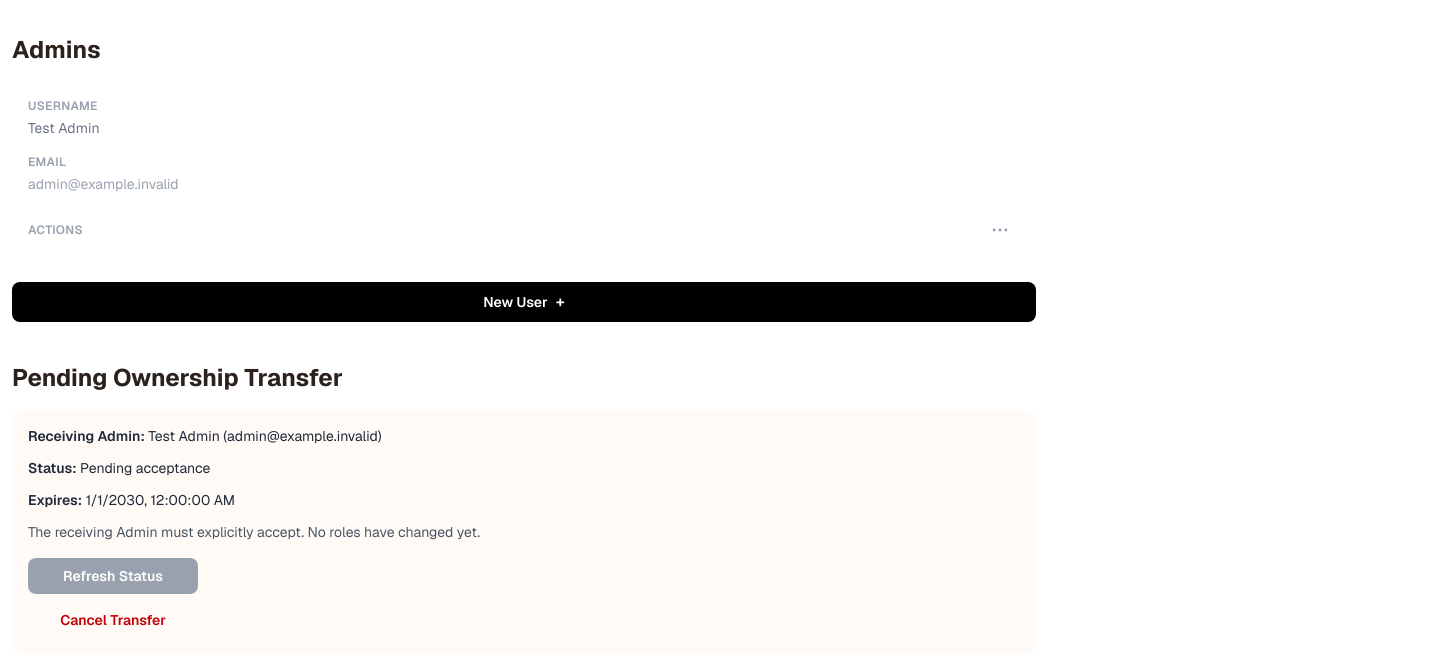
Admin page pending ownership-transfer controls › keeps the pending section visible when cancellation fails
(page scrolled)
Click the button "Cancel Transfer". click: (113, 620)
box: [28,602,198,638]
(page scrolled)
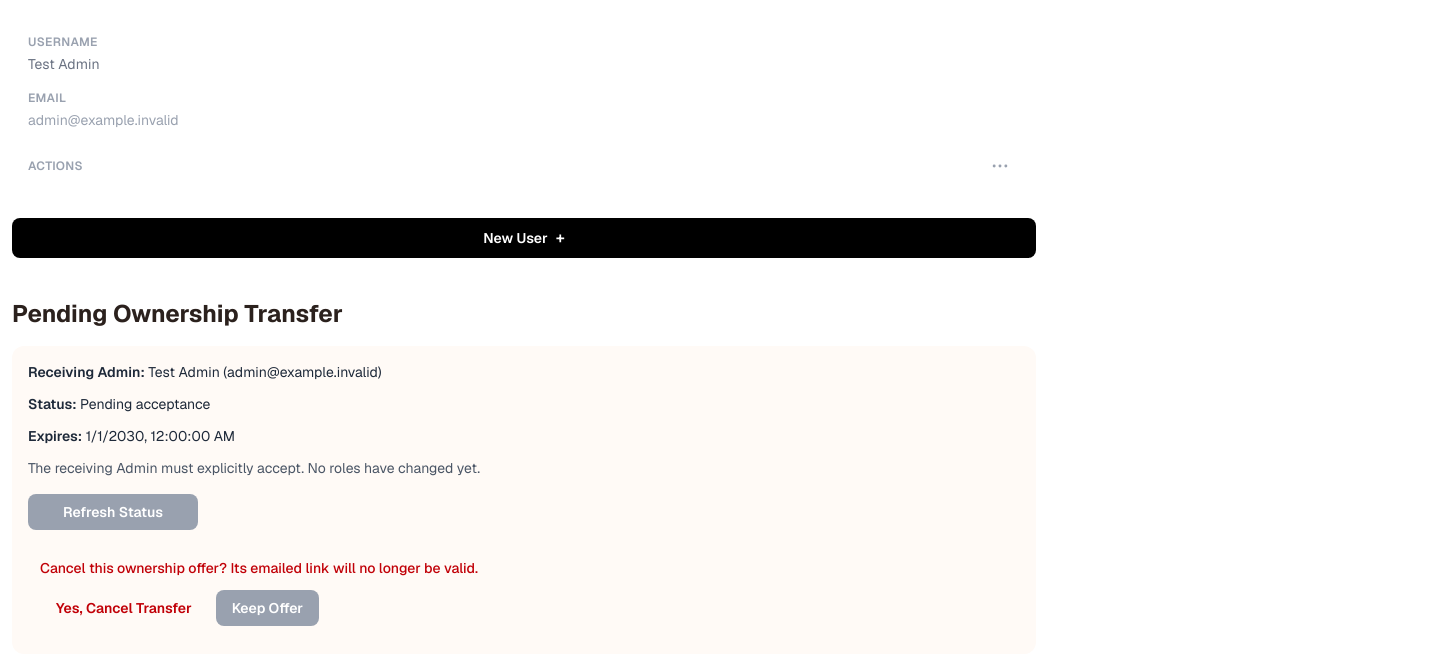
Click the button "Yes, Cancel Transfer". click: (124, 608)
box: [40,590,208,626]
(page scrolled)
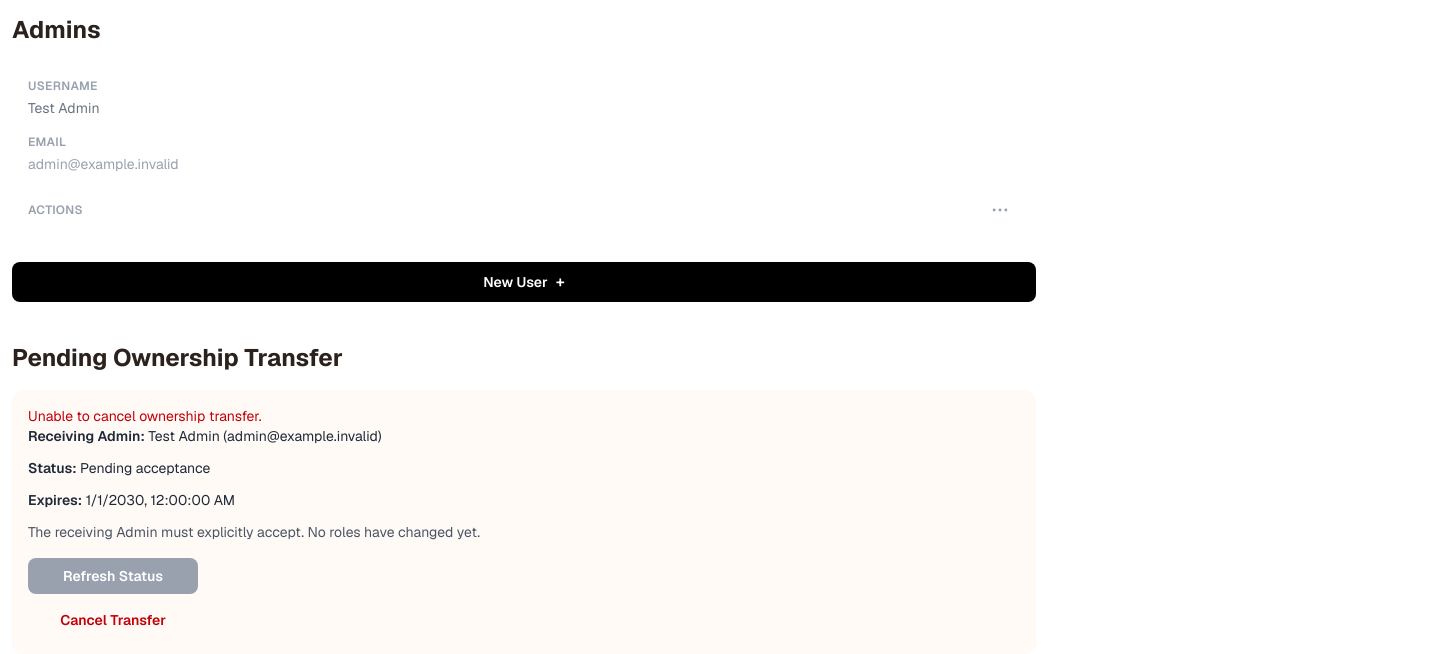
Check: the heading "Pending Ownership Transfer" is shown, box [12,342,343,373]
Check: the message reads "Unable to cancel ownership transfer.", box [28,407,262,425]
